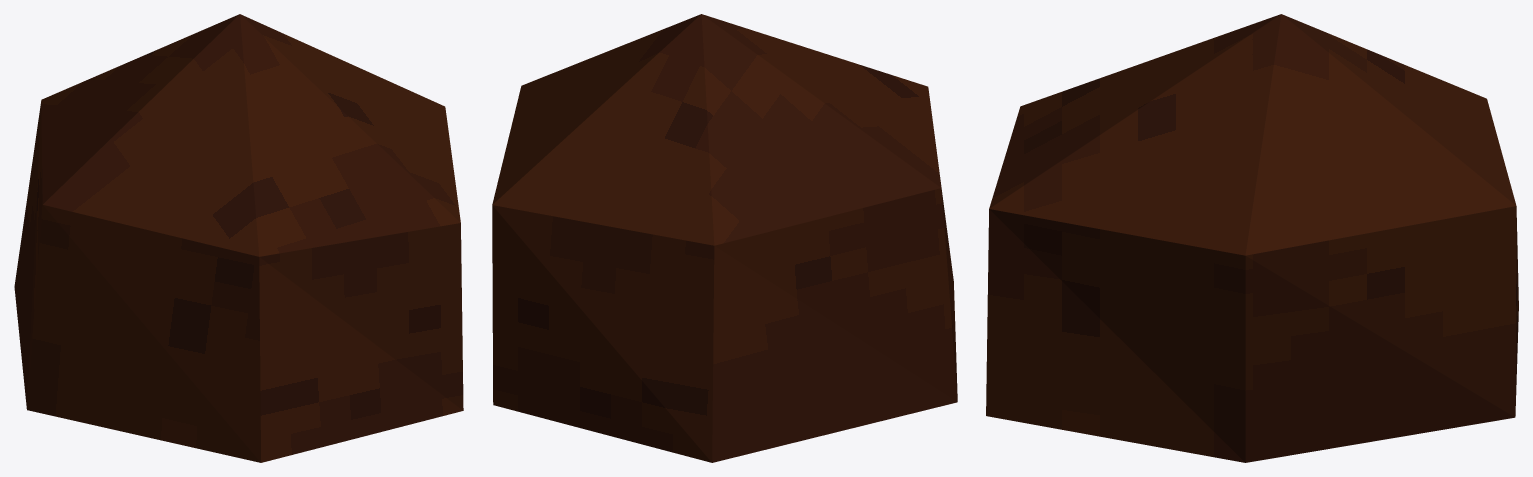
File: carne_seca.glb
3 views of the same model, side by side, from view 1: azimuth 30°, elevation 25°; view 2: azimuth 150°, elevation 25°; view 3: azimuth 270°, elevation 25° (orthographic). The views are drawn at different scales.
Parts seen in each view (by area): view 1: carne; view 2: carne; view 3: carne.
Part boxes in pixels (left/top/right/bottom): carne: left=14, top=14, right=463, bottom=462; carne: left=492, top=14, right=957, bottom=462; carne: left=986, top=14, right=1518, bottom=462.
Size of the model in its own units: 0.2 by 0.15 by 0.2.
1 material, 1 textured.
